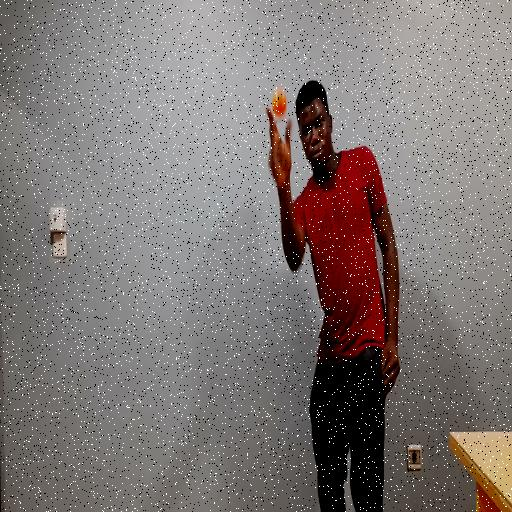plastic-ball: (269, 85, 289, 122)
